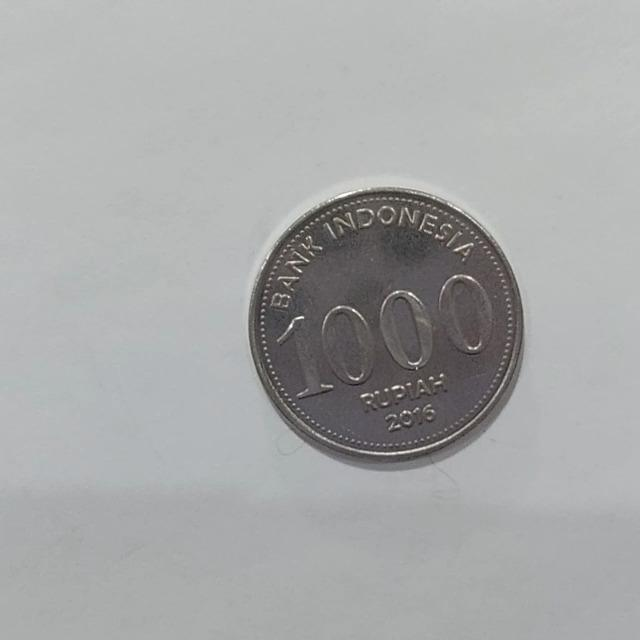Rp100: (246, 183, 525, 468)
